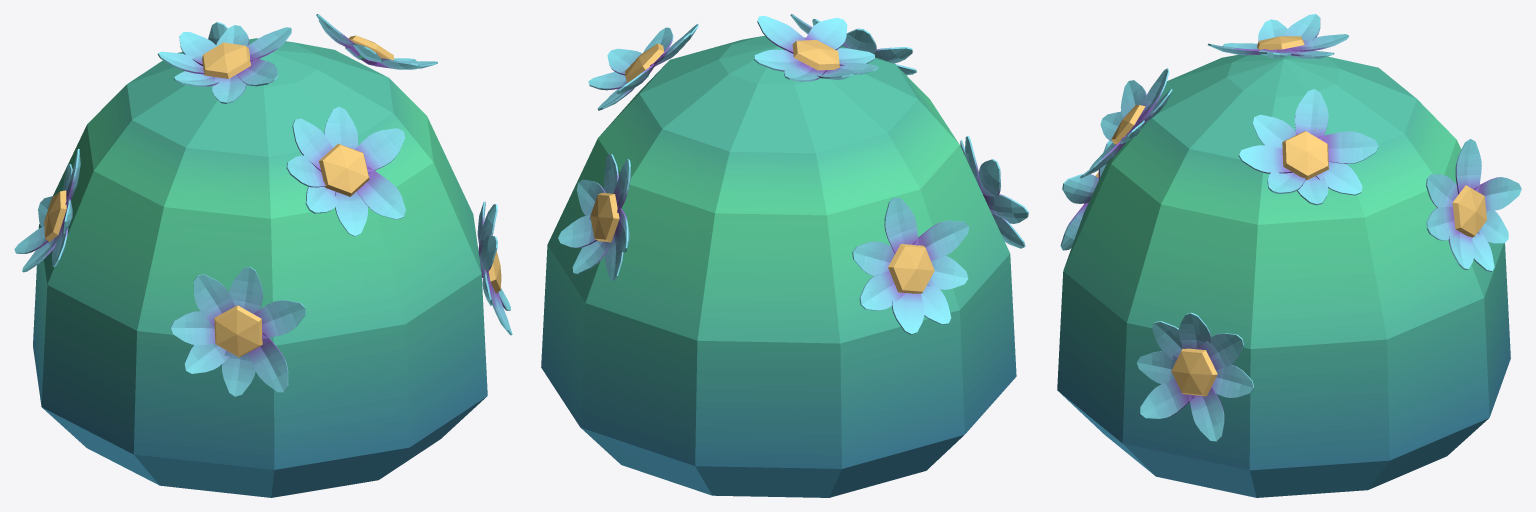
Rendered from bush_4.gltf.
The picture shows the model from 3 angles, left to right: view 1: azimuth 30°, elevation 25°; view 2: azimuth 150°, elevation 25°; view 3: azimuth 270°, elevation 25°; orthographic projection. The views are drawn at different scales.
Parts seen in each view (by area): view 1: Object_17; view 2: Object_17; view 3: Object_17.
Boxes of the visible parts, left/top/right/bottom form: Object_17: left=14, top=14, right=512, bottom=497; Object_17: left=541, top=14, right=1028, bottom=497; Object_17: left=1057, top=14, right=1521, bottom=497.
Bounding box in the file's own units: 3.58 × 3.46 × 3.52.
1 material, 1 textured.
